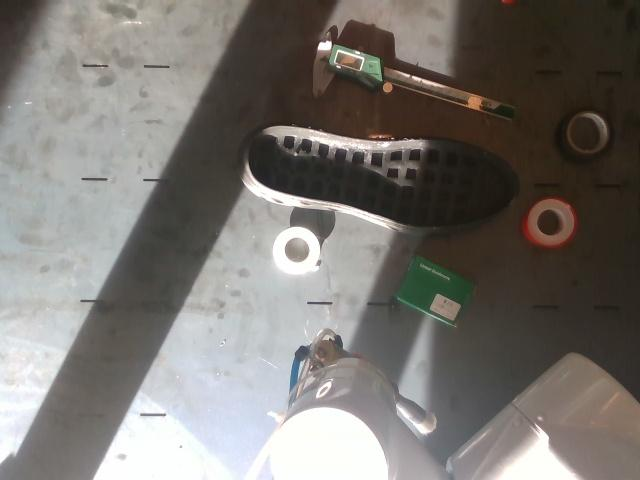shoes: (248, 125, 516, 227)
